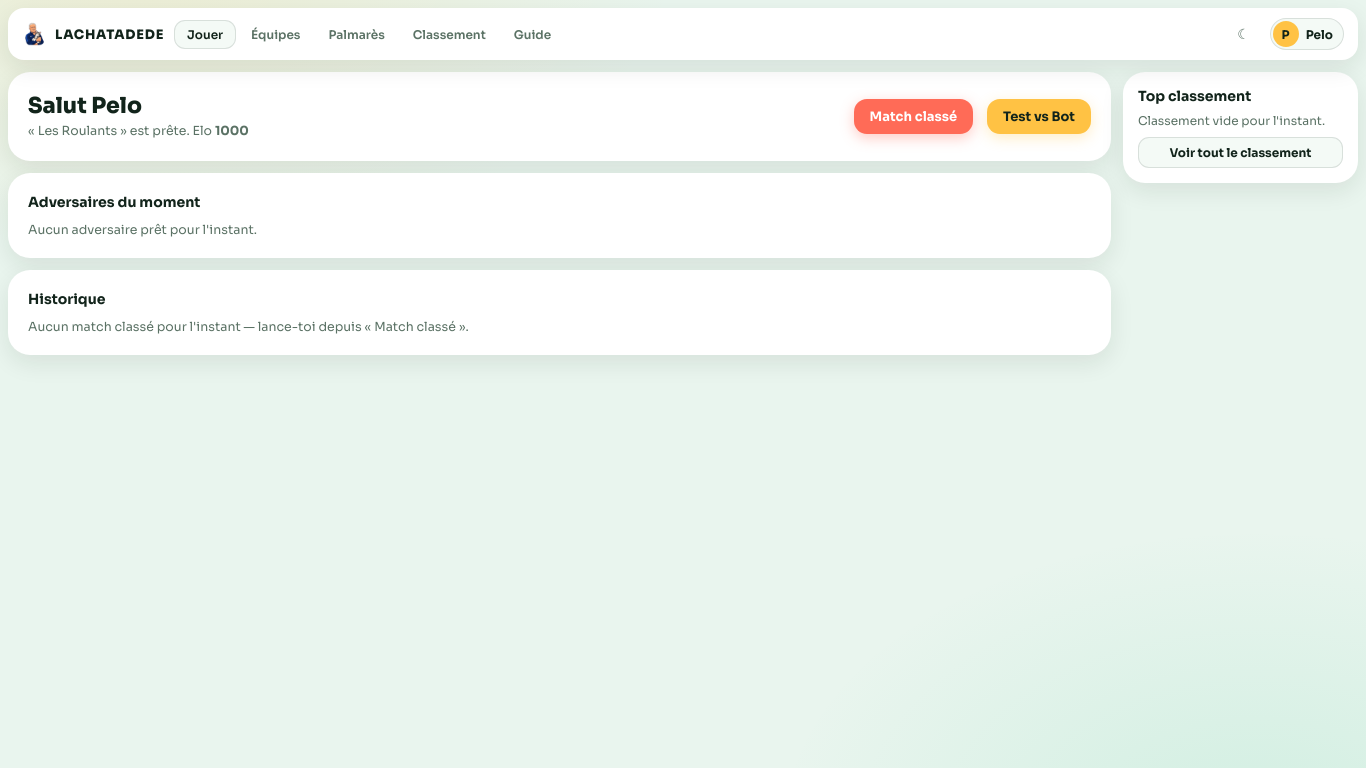
Test: PlayPage (story 7.6) › practice flow › surfaces a failed practice as a retryable banner and stays on the page
What coordinates should you click on to do the following:
click the button with test id "practice-start-button"
I would click on:
 (1039, 116)
Its box is x1=987 y1=99 x2=1091 y2=134.
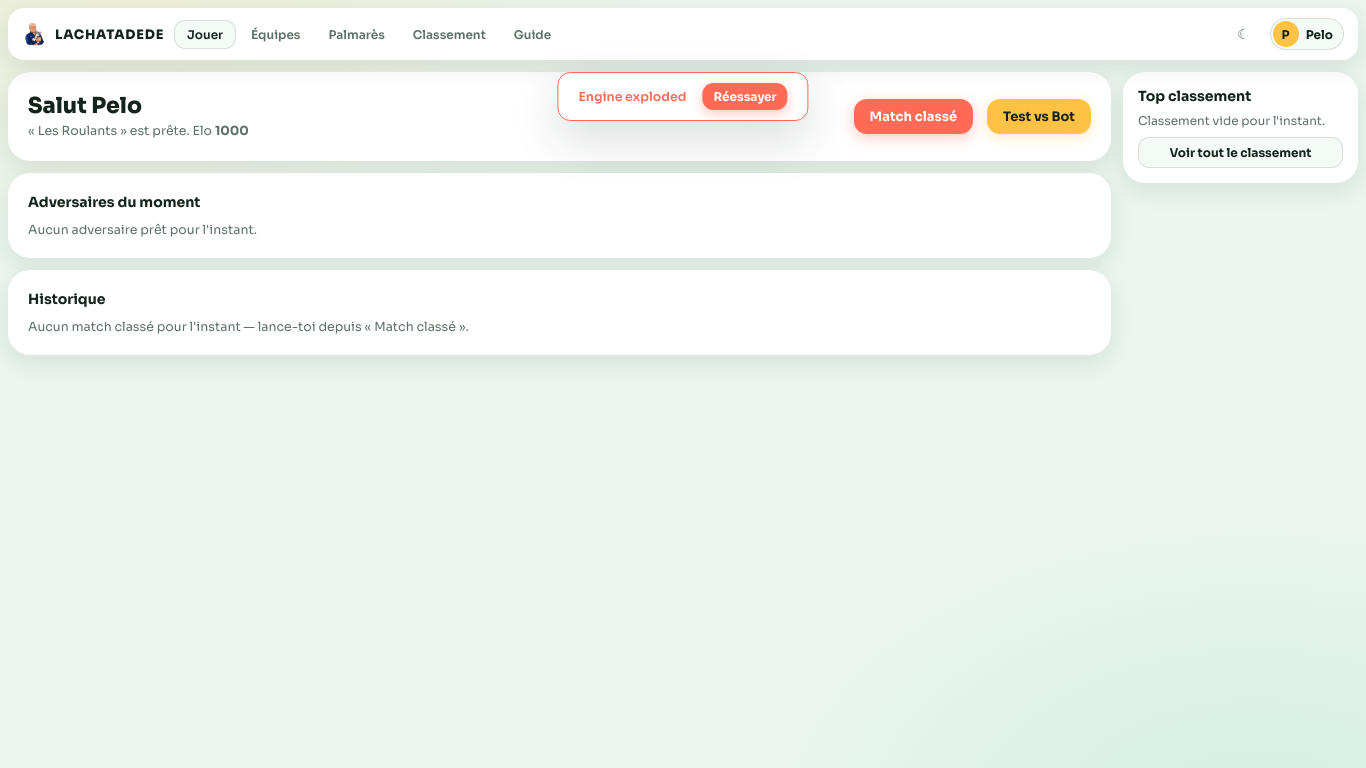
Expected: the message "Engine exploded Réessayer" is shown, x1=557 y1=72 x2=809 y2=121
Expected: the text "Engine exploded" is shown, x1=578 y1=88 x2=686 y2=104
Expected: the button with test id "practice-retry-button" is shown, x1=702 y1=83 x2=788 y2=110
